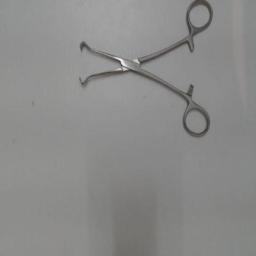Babcock Tissue Forceps: (76, 1, 214, 141)
